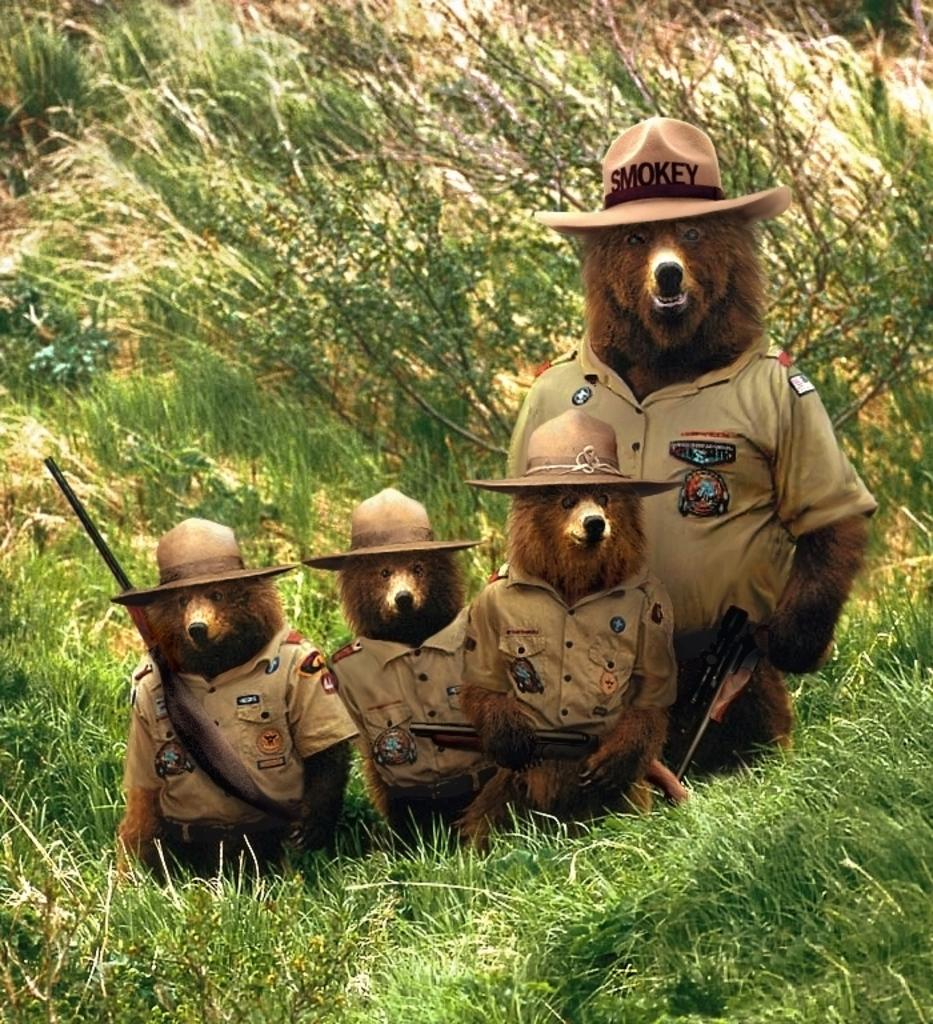Hat: (530, 114, 787, 239), (460, 408, 680, 496), (106, 518, 297, 611), (302, 486, 483, 574)
